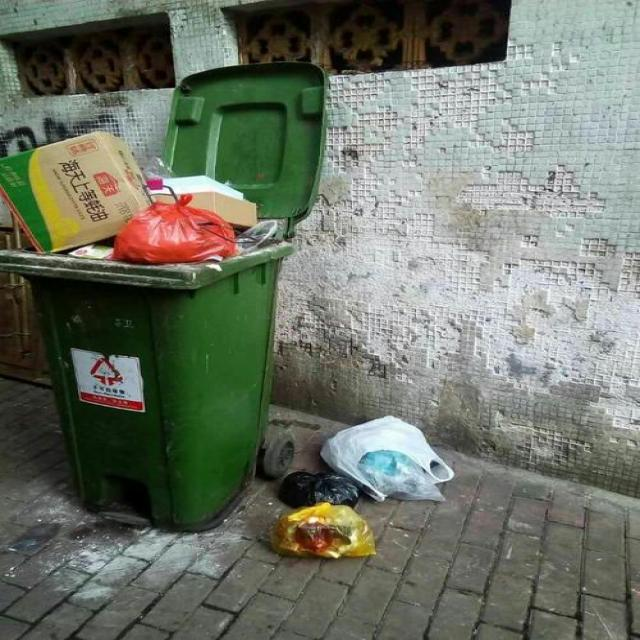garbage: (267, 414, 452, 558)
overflow: (2, 132, 290, 532)
